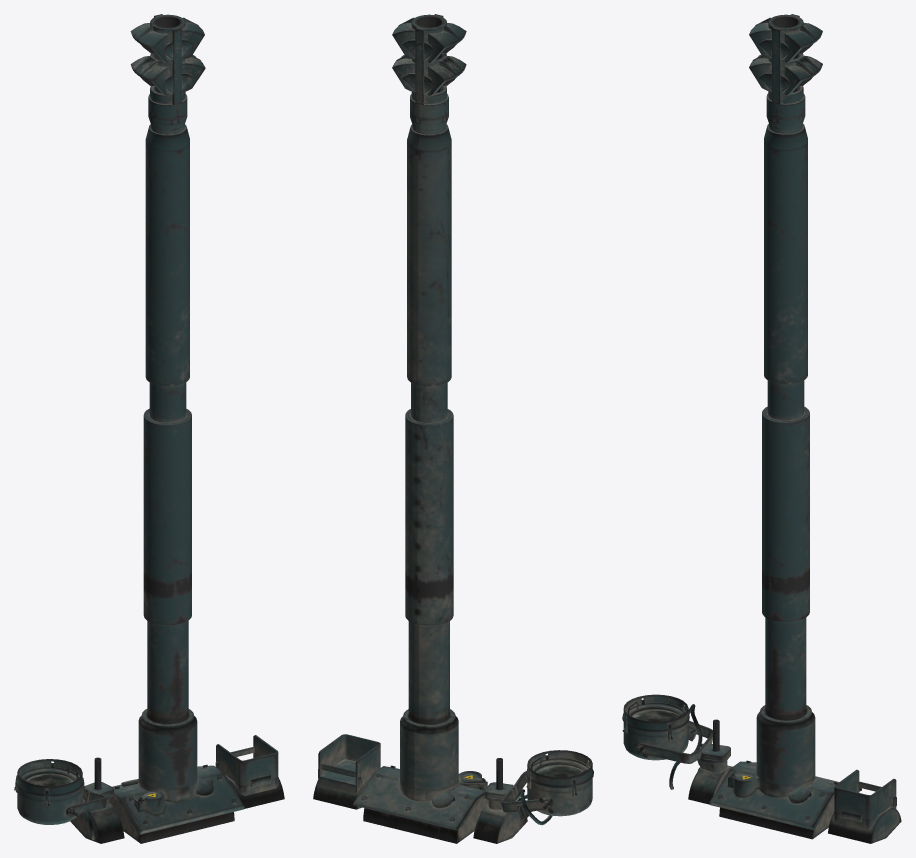
File: Gun_01.glb
The picture shows the model from 3 angles, left to right: view 1: azimuth 30°, elevation 25°; view 2: azimuth 150°, elevation 25°; view 3: azimuth 330°, elevation 25°; orthographic projection.
Parts seen in each view (by area): view 1: set_0_group_0; view 2: set_0_group_0; view 3: set_0_group_0.
Boxes of the visible parts, left/top/right/bottom form: set_0_group_0: left=14, top=14, right=284, bottom=843; set_0_group_0: left=313, top=14, right=593, bottom=843; set_0_group_0: left=622, top=14, right=901, bottom=843.
Bounding box in the file's own units: 1.32 × 3.95 × 0.4795.
1 material, 1 textured.
